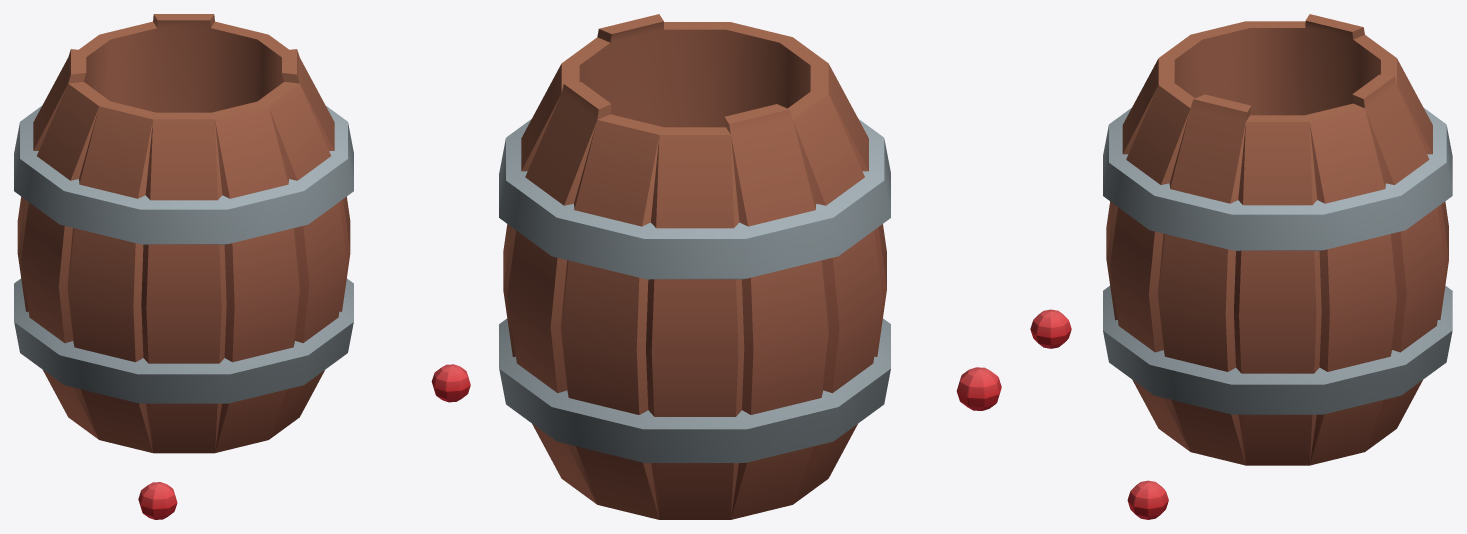
Rendered from apple_barrel_6.glb.
3 renders of one model, left to right at view 1: azimuth 30°, elevation 25°; view 2: azimuth 150°, elevation 25°; view 3: azimuth 270°, elevation 25°, orthographic. The views are drawn at different scales.
Visible parts, largest first — view 1: apple_barrel_6; view 2: apple_barrel_6; view 3: apple_barrel_6.
Part boxes in pixels (<box>): apple_barrel_6: <box>14,14,470,519</box>; apple_barrel_6: <box>499,14,1001,519</box>; apple_barrel_6: <box>1030,14,1452,519</box>.
Size of the model in its own units: 1.38 by 1.2 by 1.3.
Materials: 2 (2 with a texture image).
